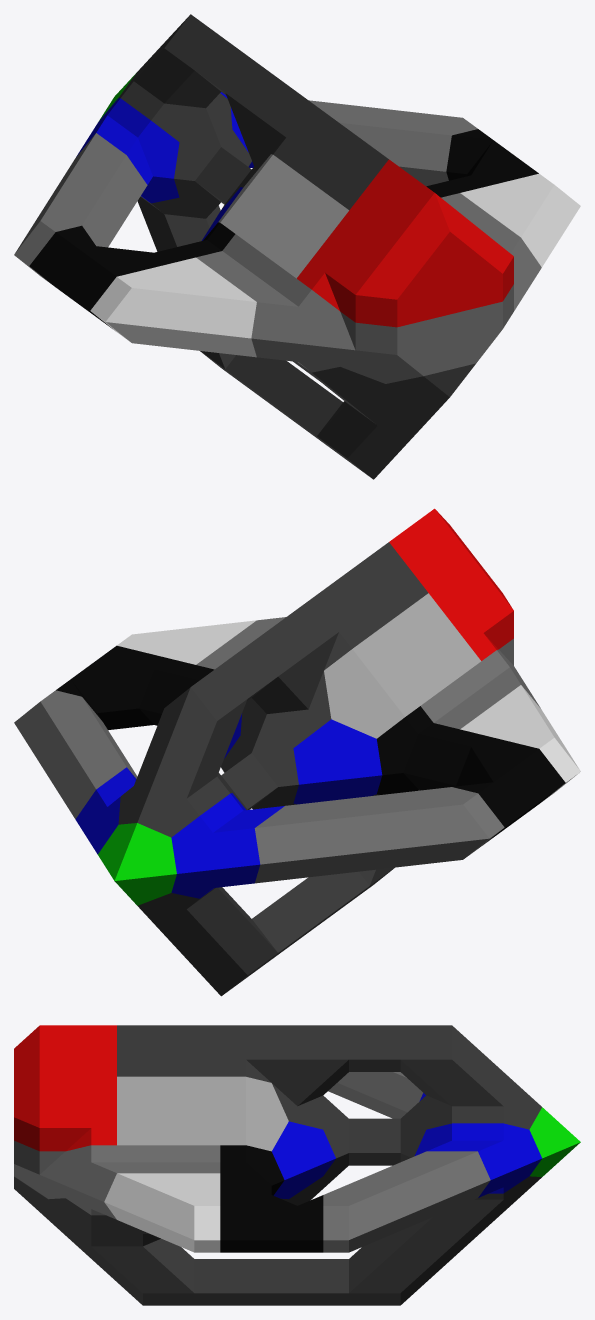
The model's file is ship_basic_bobcat.fbx.
The picture shows the model from 3 angles, top to bottom: view 1: azimuth 30°, elevation 25°; view 2: azimuth 150°, elevation 25°; view 3: azimuth 270°, elevation 25°; orthographic projection. The views are drawn at different scales.
Parts seen in each view (by area): view 1: ship_basic_bobcat; view 2: ship_basic_bobcat; view 3: ship_basic_bobcat.
Boxes of the visible parts, left/top/right/bottom form: ship_basic_bobcat: left=14, top=14, right=580, bottom=479; ship_basic_bobcat: left=14, top=508, right=580, bottom=996; ship_basic_bobcat: left=14, top=1025, right=580, bottom=1305.
Size of the model in its own units: 900 by 600 by 1100.
